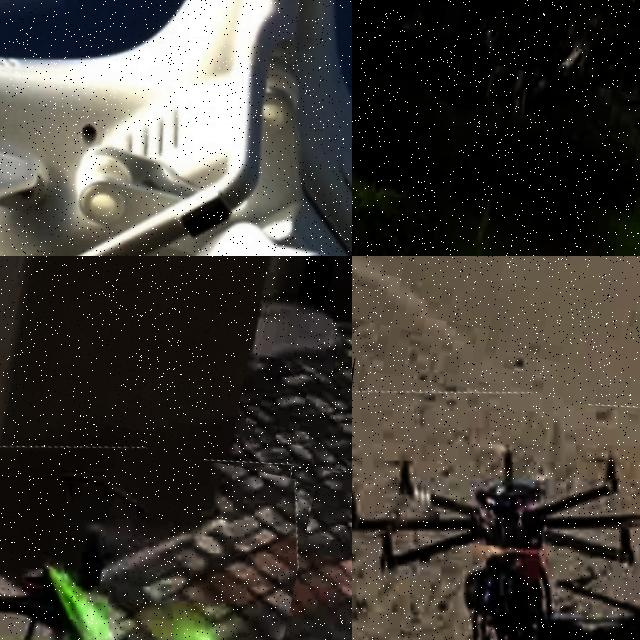0: (352, 355, 640, 640), (0, 403, 315, 640)
drone: (0, 0, 352, 256)
